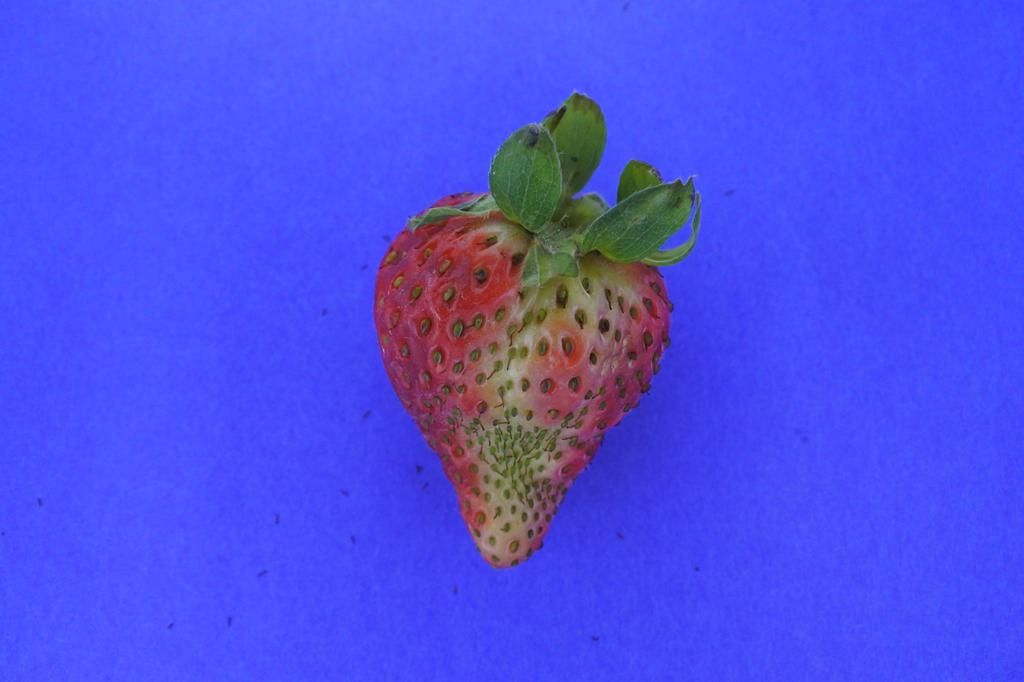red strawberry: (371, 91, 703, 570)
